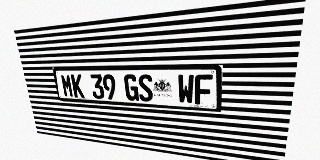3: (90, 74, 105, 99)
9: (102, 74, 117, 100)
F: (195, 74, 213, 105)
G: (123, 74, 139, 101)
K: (70, 74, 85, 98)
M: (60, 74, 74, 97)
S: (137, 74, 153, 102)
W: (177, 74, 194, 104)
